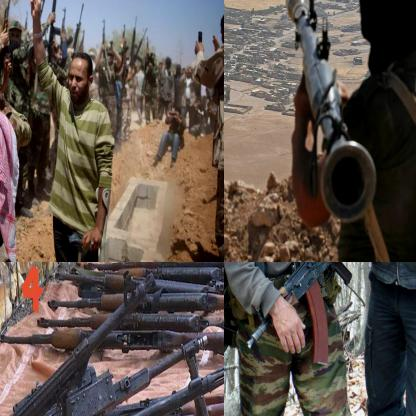rifle: (0, 273, 157, 415), (278, 0, 376, 221), (0, 335, 209, 415), (0, 350, 223, 415), (246, 262, 362, 366), (24, 302, 206, 340), (49, 285, 223, 318), (0, 0, 22, 92), (45, 0, 65, 61)
